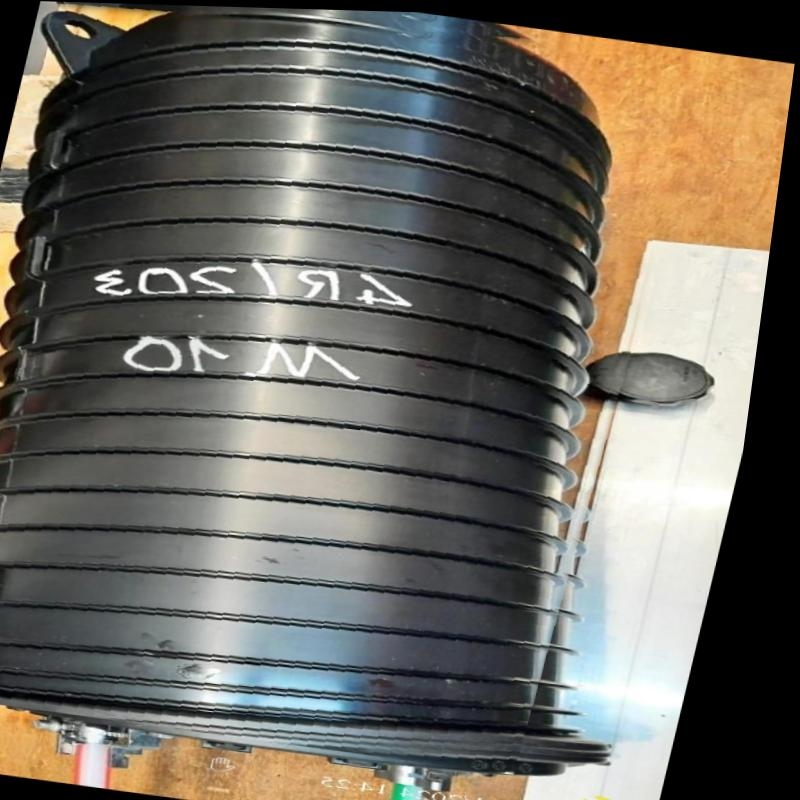NT-Muffen: (0, 0, 717, 776)
